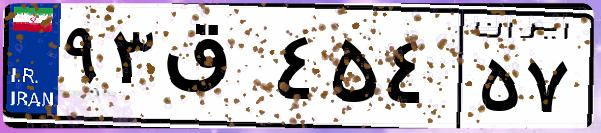3: (110, 28, 158, 98)
4: (270, 28, 330, 110), (385, 28, 445, 110)
5: (330, 28, 385, 110), (475, 38, 525, 113)
7: (525, 38, 570, 115)
9: (57, 26, 110, 100)
ق: (158, 20, 270, 120)
